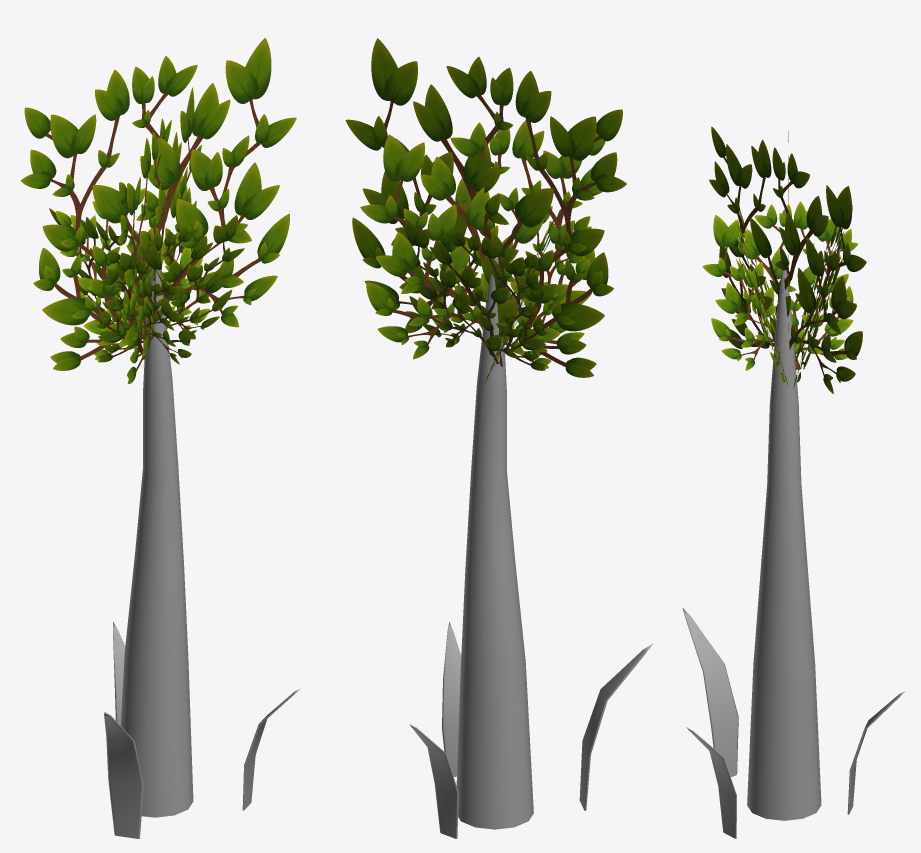
Rendered from Sprout.fbx.
The picture shows the model from 3 angles, left to right: view 1: azimuth 30°, elevation 25°; view 2: azimuth 150°, elevation 25°; view 3: azimuth 270°, elevation 25°; orthographic projection. The views are drawn at different scales.
Parts seen in each view (by area): view 1: Leaves_Sprout, Tree_Sprout; view 2: Leaves_Sprout, Tree_Sprout; view 3: Tree_Sprout, Leaves_Sprout.
Part boxes in pixels (x1=…): Leaves_Sprout: x1=20, y1=38, x2=296, y2=383; Tree_Sprout: x1=104, y1=267, x2=300, y2=838; Leaves_Sprout: x1=345, y1=38, x2=626, y2=383; Tree_Sprout: x1=409, y1=257, x2=652, y2=838; Tree_Sprout: x1=682, y1=270, x2=905, y2=838; Leaves_Sprout: x1=702, y1=126, x2=866, y2=393.
Size of the model in its own units: 0.2273 by 0.5559 by 0.1556.
